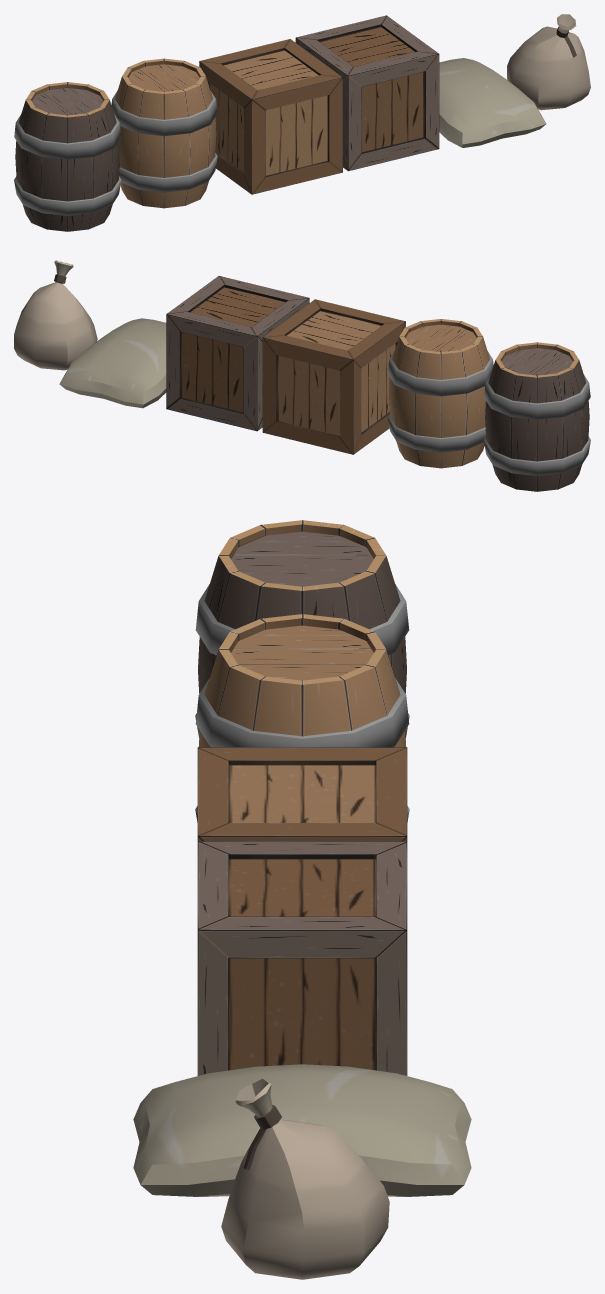
The model's file is props-minipack.glb.
The picture shows the model from 3 angles, top to bottom: view 1: azimuth 30°, elevation 25°; view 2: azimuth 150°, elevation 25°; view 3: azimuth 270°, elevation 25°; orthographic projection. The views are drawn at different scales.
Parts seen in each view (by area): view 1: props_crate_01, props_crate_02, props_barrel_02, props_barrel_01, props_sack_01, props_sack_02; view 2: props_crate_01, props_crate_02, props_barrel_02, props_barrel_01, props_sack_01, props_sack_02; view 3: props_crate_02, props_sack_01, props_barrel_01, props_sack_02, props_crate_01, props_barrel_02.
Part boxes in pixels (x1,y1,x2,y2): props_crate_01: [199, 39, 342, 194]; props_crate_02: [295, 15, 439, 171]; props_barrel_02: [14, 82, 121, 231]; props_barrel_01: [111, 58, 217, 208]; props_sack_01: [439, 58, 546, 147]; props_sack_02: [507, 14, 590, 110]; props_crate_01: [262, 299, 405, 454]; props_crate_02: [166, 276, 309, 431]; props_barrel_02: [483, 342, 590, 491]; props_barrel_01: [387, 319, 493, 468]; props_sack_01: [59, 318, 166, 408]; props_sack_02: [14, 260, 97, 370]; props_crate_02: [197, 841, 407, 1075]; props_sack_01: [133, 1064, 471, 1196]; props_barrel_01: [195, 614, 409, 822]; props_sack_02: [221, 1078, 389, 1279]; props_crate_01: [197, 747, 407, 841]; props_barrel_02: [195, 520, 409, 738].
Bounding box in the file's own units: 5.28 × 1.02 × 1.37.
Materials: 1 (1 with a texture image).
